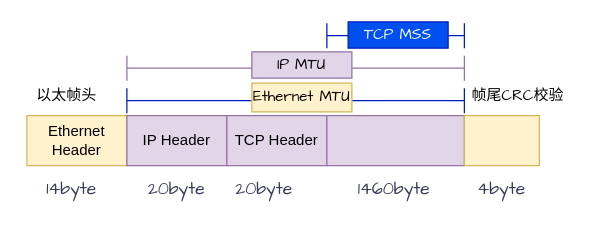
The diagram is 589 pixels wide and 230 high, and some of its shapes have lost their labels. The centre of each missing label's shape, as x and y in pixels:
"FCS" belongs at (x=501, y=140).
"TCP Payload" belongs at (x=395, y=140).
